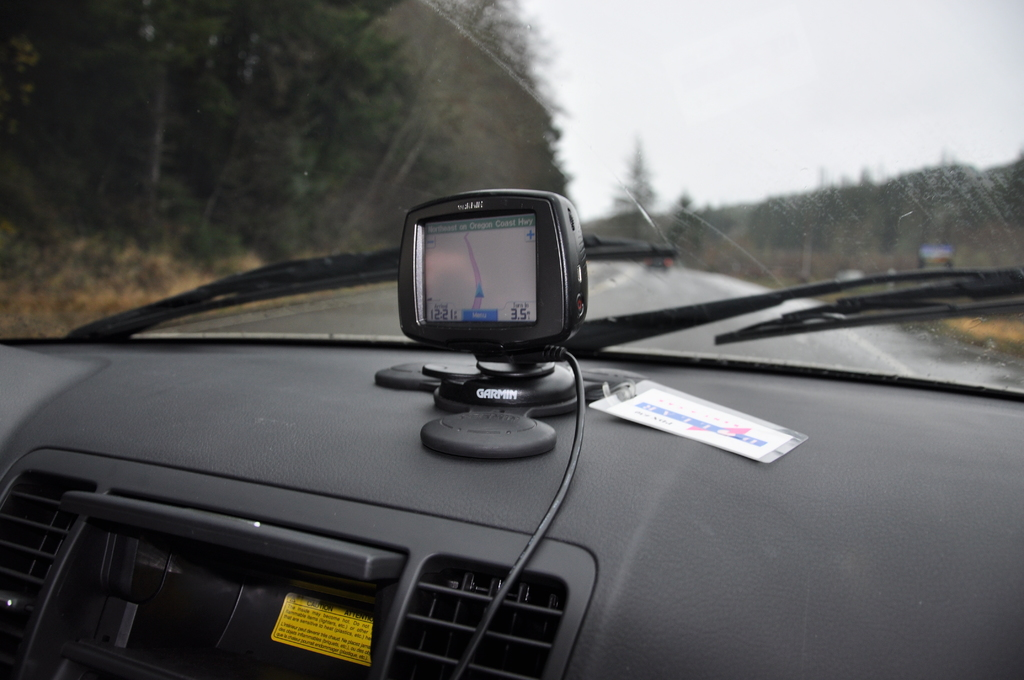Car: (0, 0, 1023, 679), (644, 256, 669, 271)
